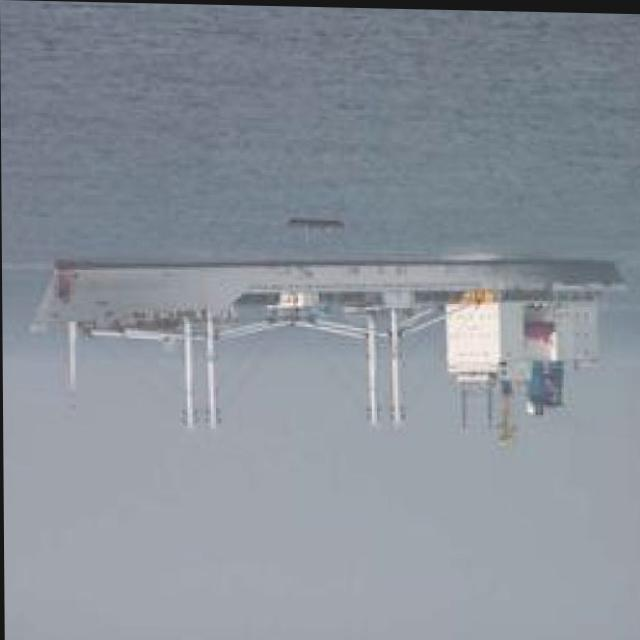ship2: (30, 257, 625, 456)
